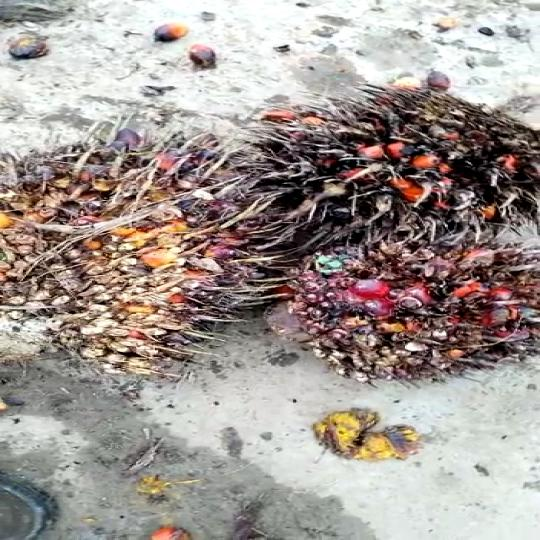terlalu masak: (0, 139, 293, 394), (230, 75, 540, 265), (272, 228, 540, 383)
